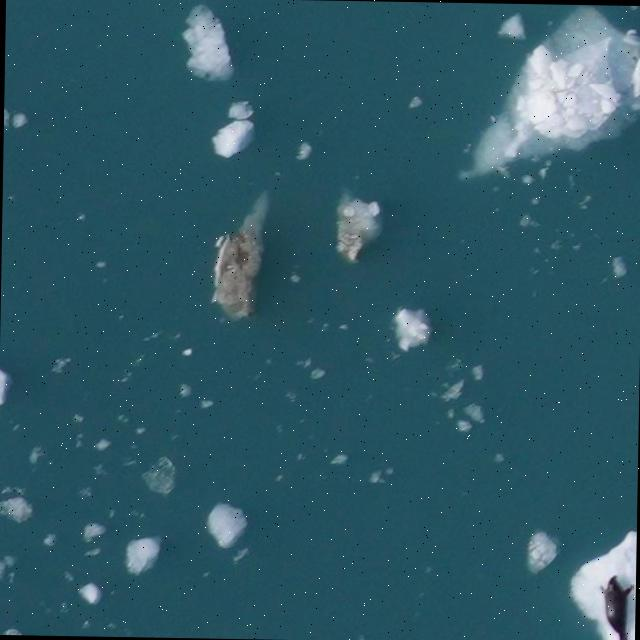seal: (603, 577, 632, 640)
